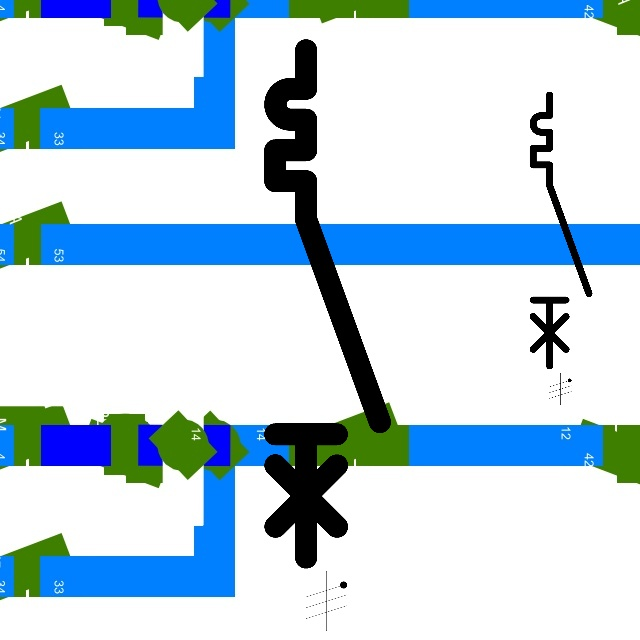interruptor_termomagnetico: (262, 37, 392, 570), (526, 88, 595, 373)
